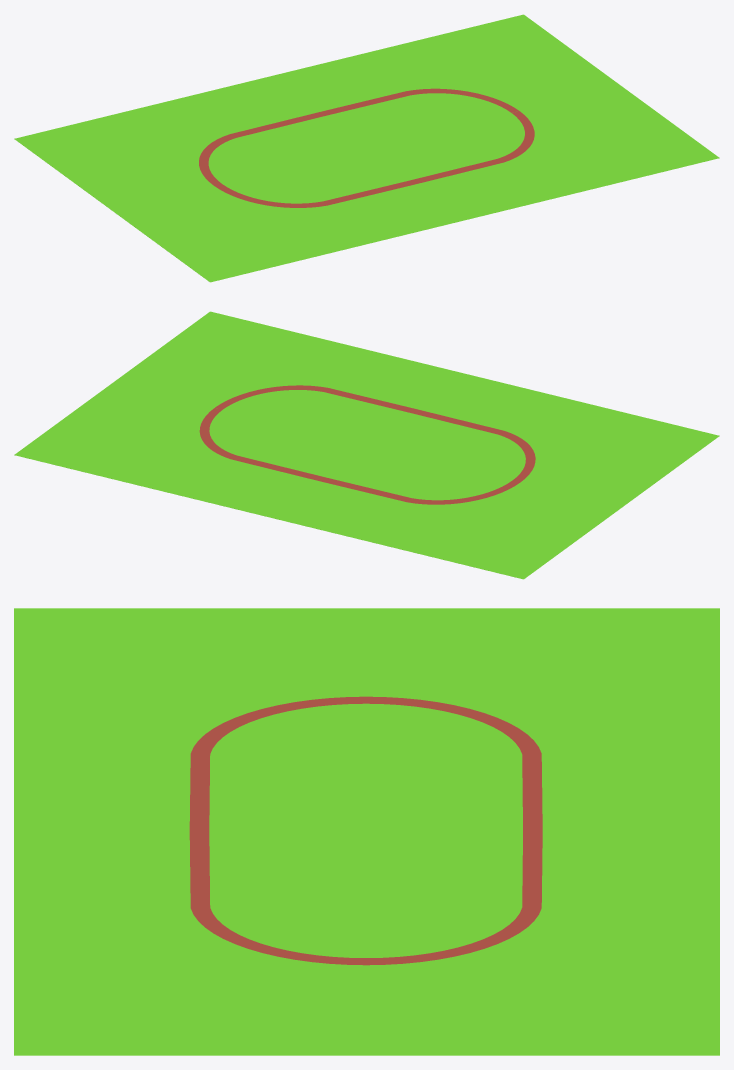
File: terrain_2.dae
3 views of the same model, one above another, from view 1: azimuth 30°, elevation 25°; view 2: azimuth 150°, elevation 25°; view 3: azimuth 270°, elevation 25° (orthographic). The views are drawn at different scales.
Parts seen in each view (by area): view 1: Terrain, Piste; view 2: Terrain, Piste; view 3: Terrain, Piste.
Boxes of the visible parts, left/top/right/bottom form: Terrain: left=14, top=14, right=719, bottom=282; Piste: left=199, top=88, right=534, bottom=207; Terrain: left=14, top=311, right=719, bottom=579; Piste: left=199, top=385, right=535, bottom=504; Terrain: left=14, top=608, right=719, bottom=1055; Piste: left=189, top=696, right=542, bottom=965.
Bounding box in the file's own units: 150 × 100 × 0.105.
Materials: 2 (1 with a texture image).
